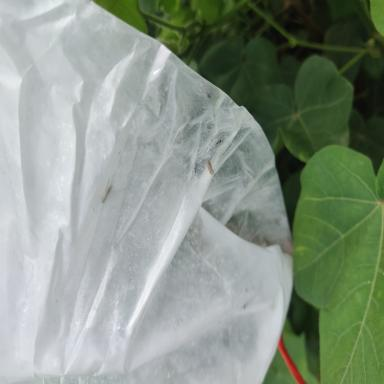pbw: (206, 158, 214, 176)
